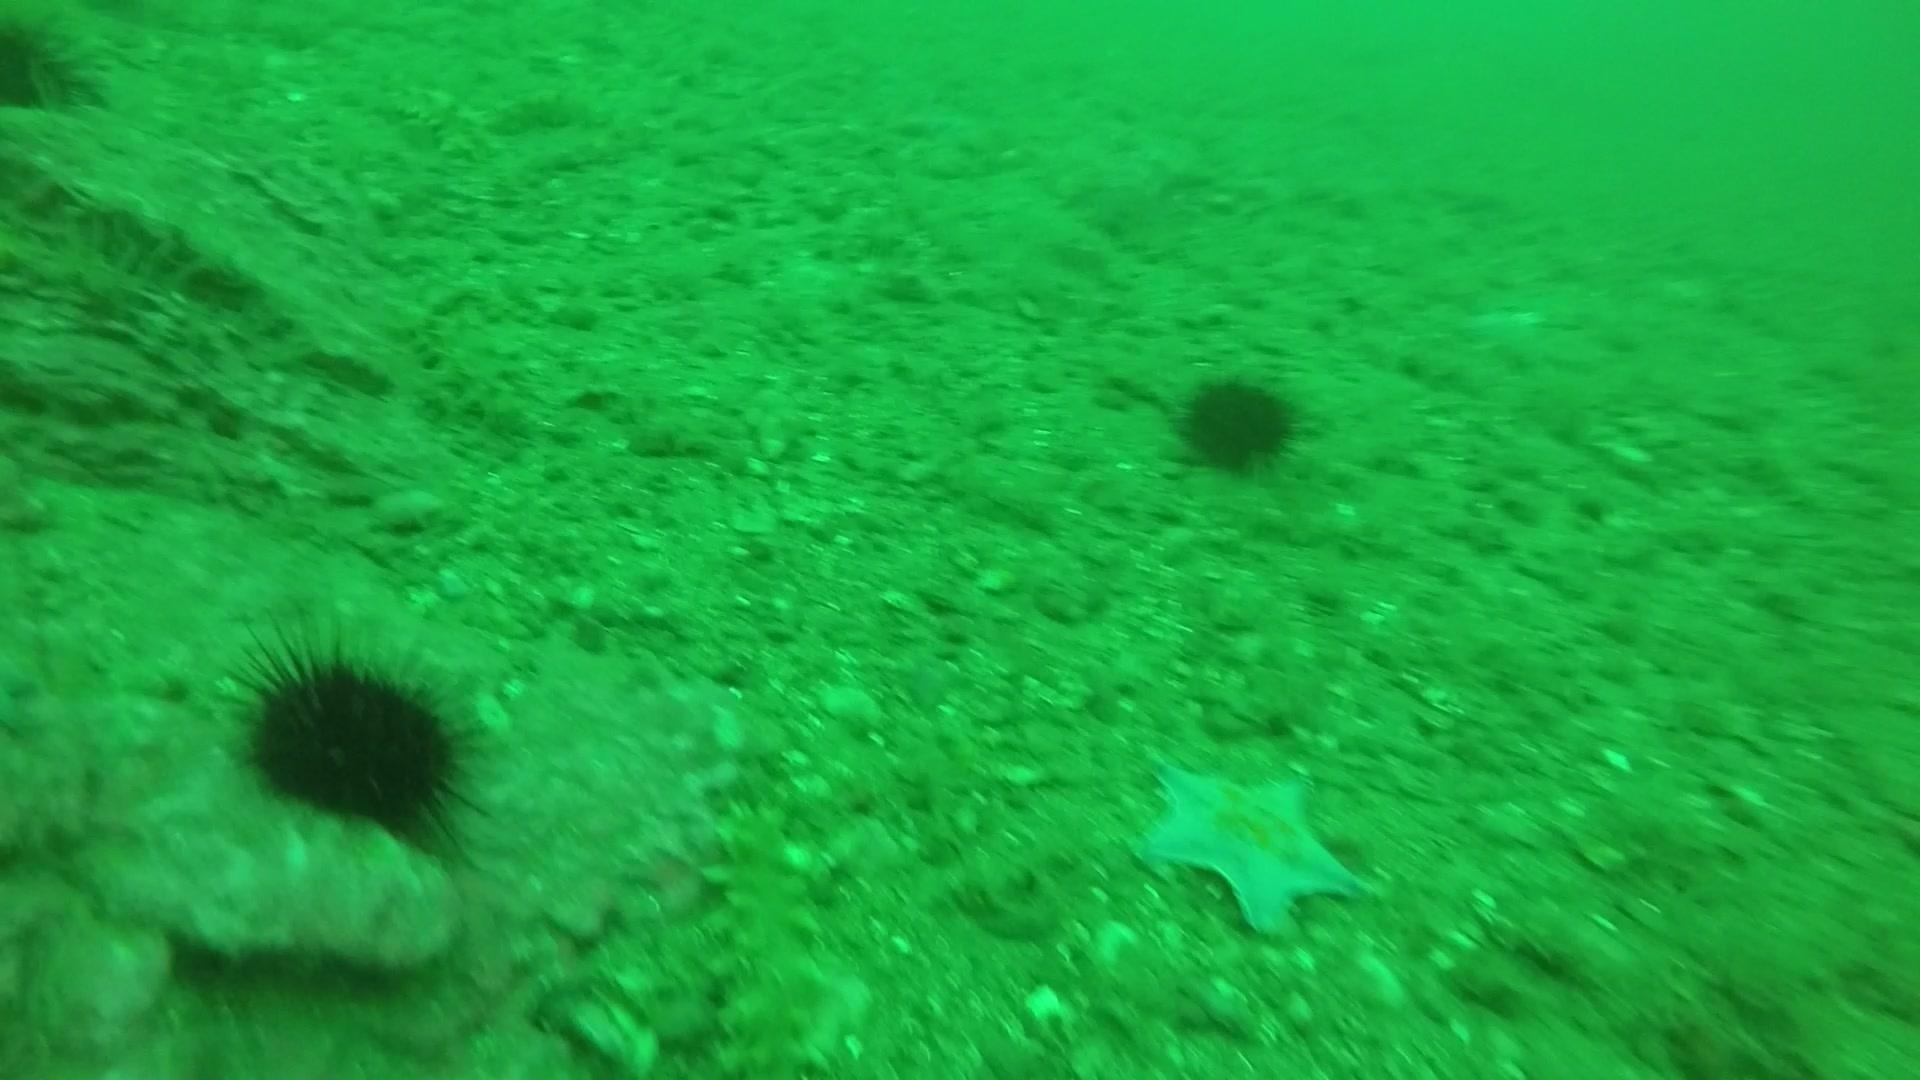echinus: (223, 626, 487, 847), (1168, 367, 1307, 480), (0, 9, 98, 121)
starfish: (1129, 749, 1375, 942)
